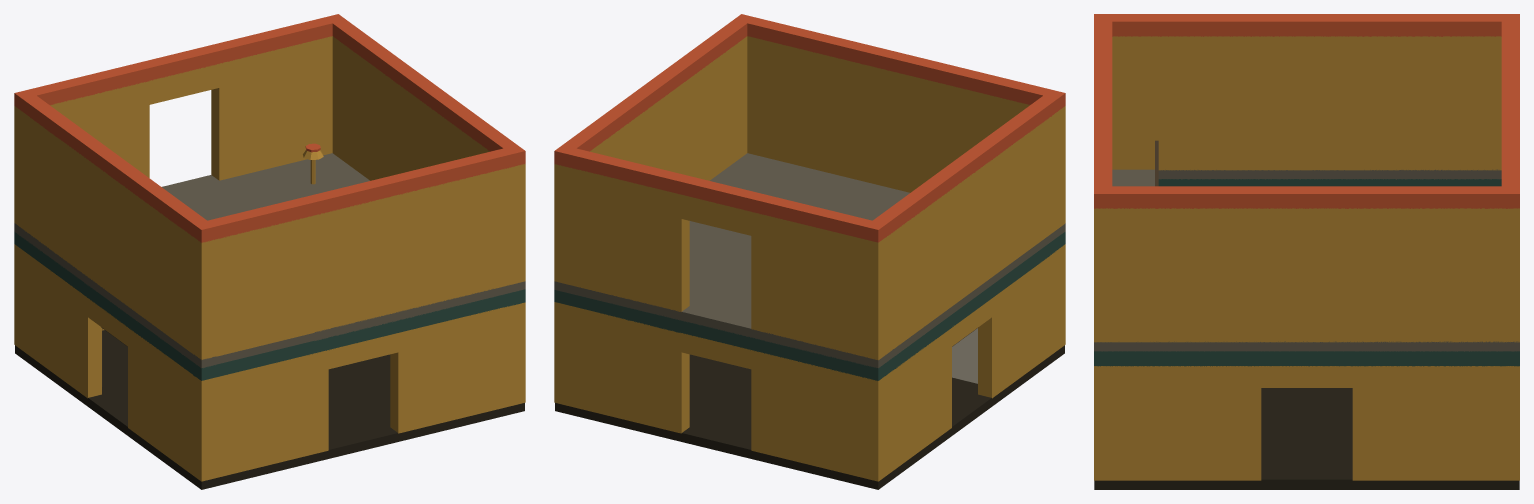
Rendered from BronzeStairUp.fbx.
The picture shows the model from 3 angles, left to right: view 1: azimuth 30°, elevation 25°; view 2: azimuth 150°, elevation 25°; view 3: azimuth 270°, elevation 25°; orthographic projection. The views are drawn at different scales.
Visible parts, largest first — view 1: BronzeStairUp; view 2: BronzeStairUp; view 3: BronzeStairUp.
Part boxes in pixels (x1=…): BronzeStairUp: x1=14, y1=14, x2=525, y2=489; BronzeStairUp: x1=554, y1=14, x2=1065, y2=489; BronzeStairUp: x1=1094, y1=14, x2=1519, y2=489.
Bounding box in the file's own units: 1202 × 922 × 1202.
Materials: 7 (7 with a texture image).
